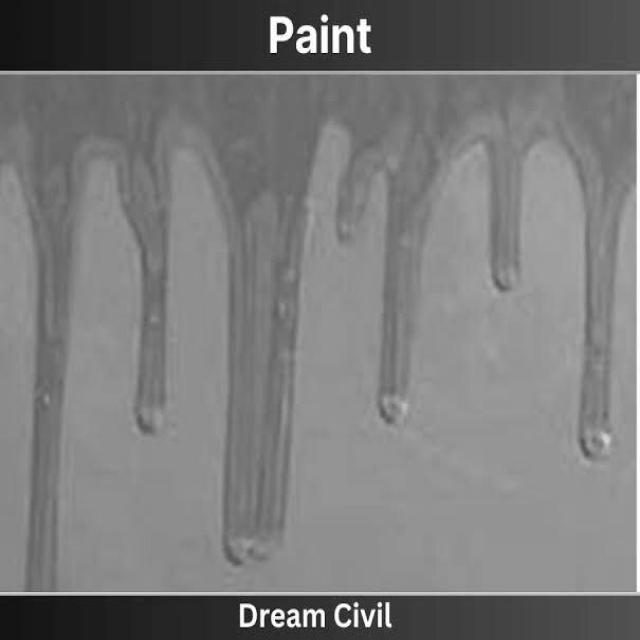paint drips: (265, 84, 640, 563), (11, 136, 314, 596)
